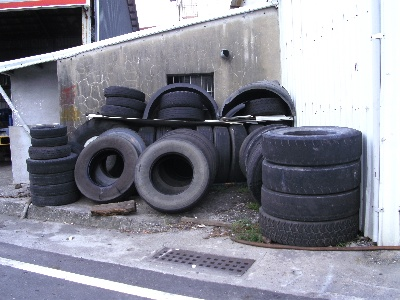tire: (135, 138, 210, 212), (73, 132, 138, 202), (262, 125, 365, 166), (257, 205, 361, 245), (258, 183, 362, 218), (261, 159, 362, 192), (155, 103, 205, 122), (26, 156, 77, 173), (103, 84, 147, 102), (160, 91, 204, 109), (100, 102, 141, 120), (27, 143, 71, 159), (105, 94, 146, 111), (29, 170, 73, 185), (30, 182, 74, 197), (31, 192, 75, 207), (29, 124, 68, 137), (30, 135, 69, 147)
